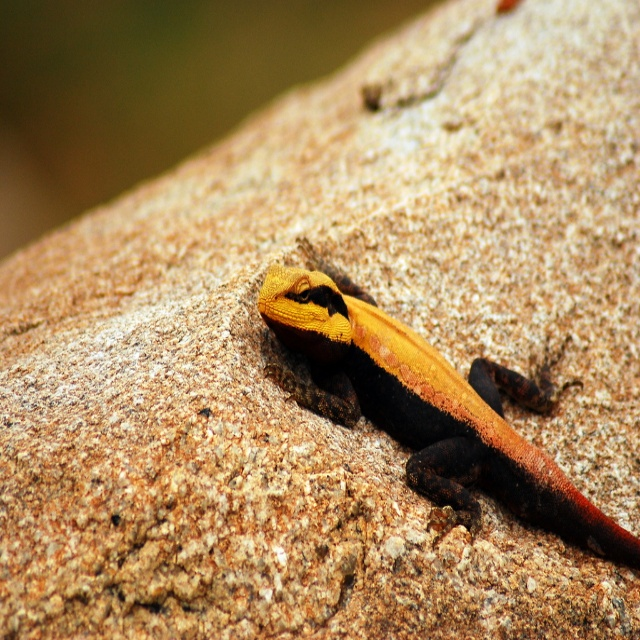Lizard: (256, 263, 635, 599)
